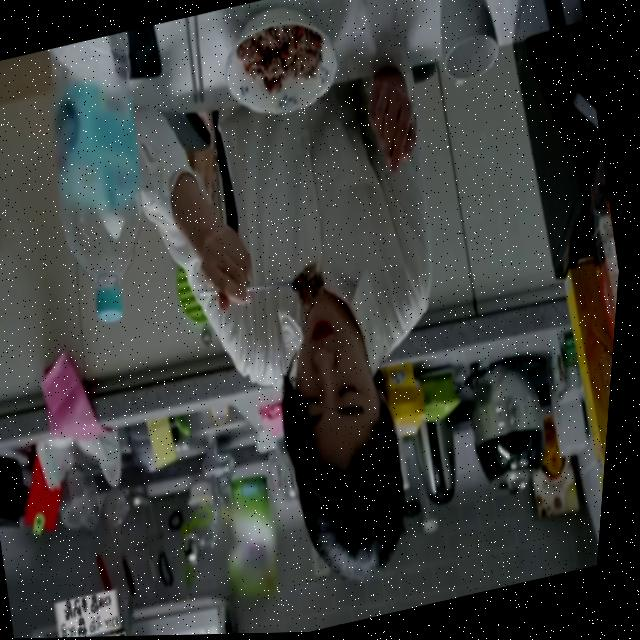eating-person: (79, 0, 531, 633)
